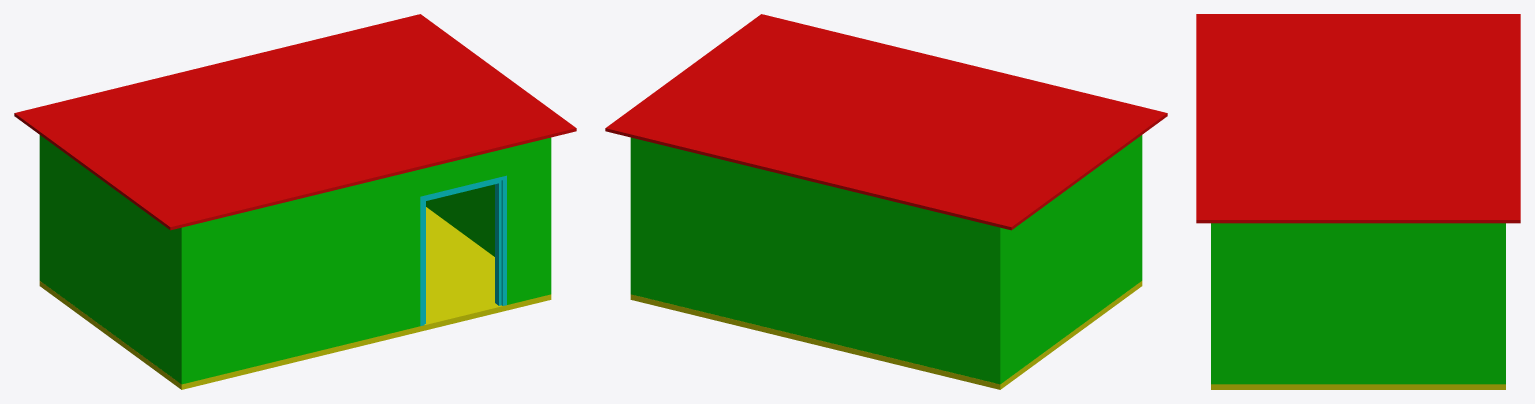
File: shop hut.fbx
3 views of the same model, side by side, from view 1: azimuth 30°, elevation 25°; view 2: azimuth 150°, elevation 25°; view 3: azimuth 270°, elevation 25° (orthographic). The views are drawn at different scales.
Parts seen in each view (by area): view 1: pCube26; view 2: pCube26; view 3: pCube26.
Part boxes in pixels (<box>): pCube26: <box>14,14,576,389</box>; pCube26: <box>605,14,1167,389</box>; pCube26: <box>1196,14,1520,389</box>.
Bounding box in the file's own units: 198 × 80.17 × 132.
